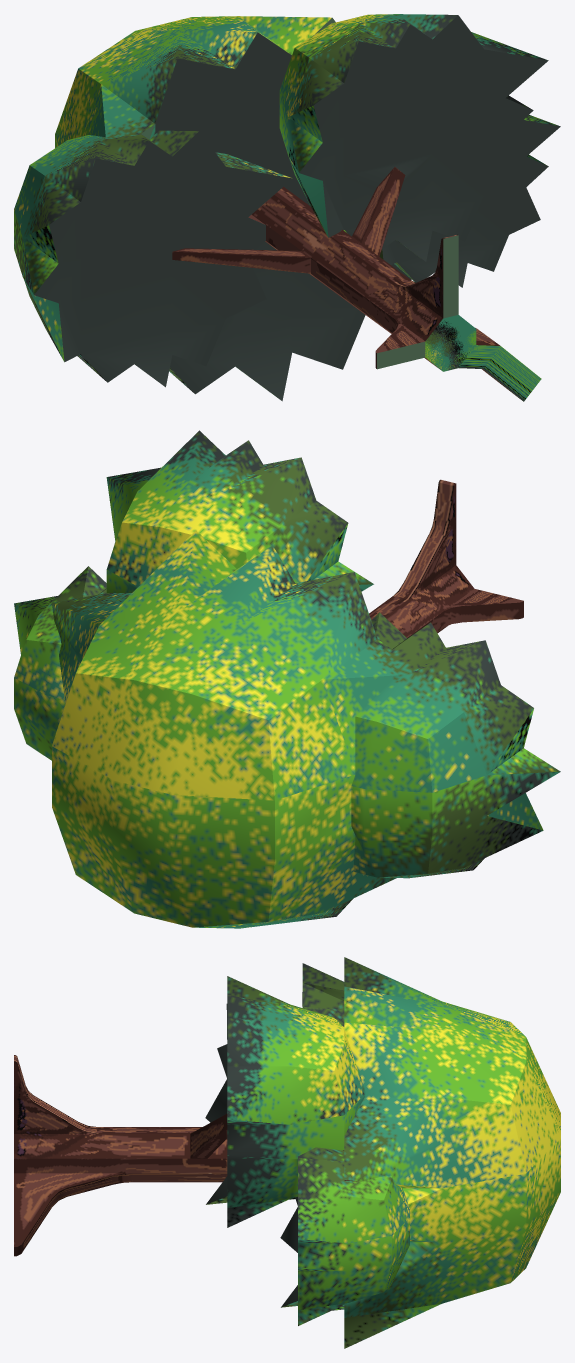
The model's file is TREE.fbx.
The picture shows the model from 3 angles, top to bottom: view 1: azimuth 30°, elevation 25°; view 2: azimuth 150°, elevation 25°; view 3: azimuth 270°, elevation 25°; orthographic projection. The views are drawn at different scales.
Parts seen in each view (by area): view 1: Tree; view 2: Tree; view 3: Tree.
Boxes of the visible parts, x1=… form: Tree: x1=14, y1=14, x2=560, y2=401; Tree: x1=14, y1=430, x2=560, y2=928; Tree: x1=14, y1=957, x2=560, y2=1348.
Bounding box in the file's own units: 899 × 635 × 886.
